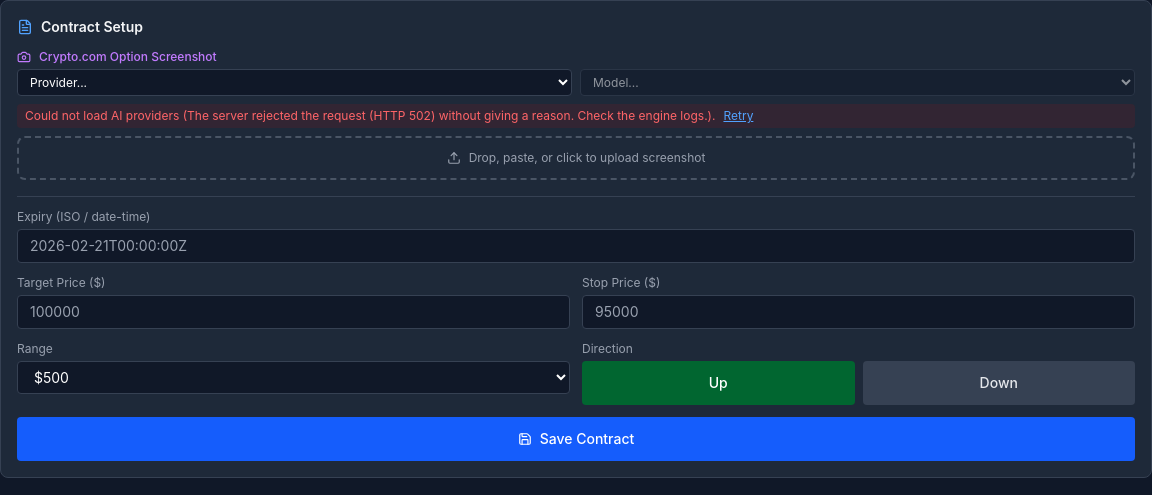
Test: ContractSetup failure recovery › reports a failed AI provider list with Retry instead of an empty dropdown
Expected: the message shows "Could not load AI providers (The server rejected the request (HTTP 502)", [25, 108, 716, 123]
Click the button "Retry": (738, 116) [724, 108, 753, 124]
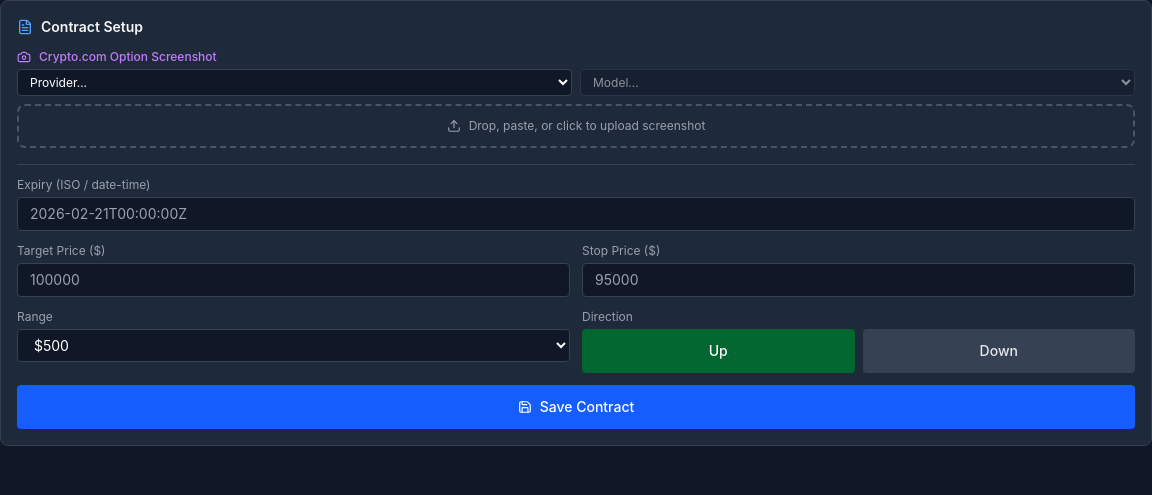
Now the message "Could not load AI providers (The server rejected the request (HTTP 502) without" is gone
